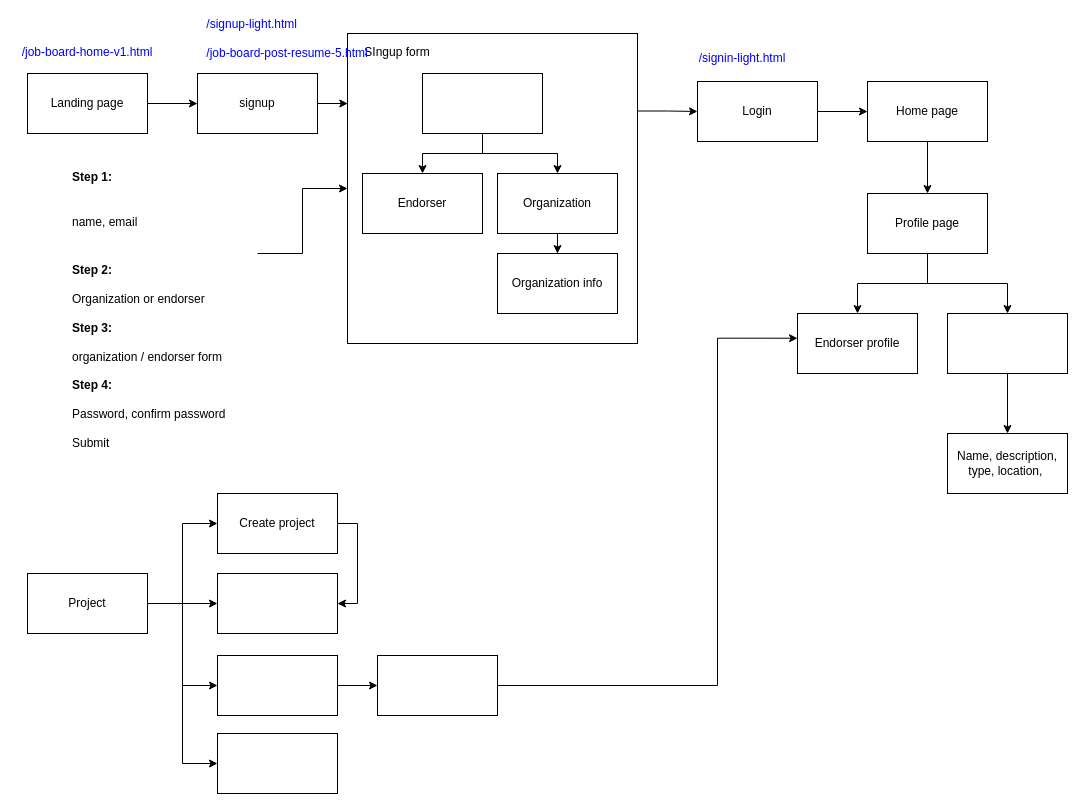
Some shapes in this 1085 by 811 pixel diagram are drawn without their labels. Here are the shapes that lost their labels. From the top down, the box of each, then its label:
(422, 72, 542, 134): personal info
(946, 312, 1068, 374): Organization profile
(216, 572, 338, 634): Project list
(216, 654, 338, 716): Single project
(376, 654, 498, 716): applicants
(216, 732, 338, 794): Edit / delete project
